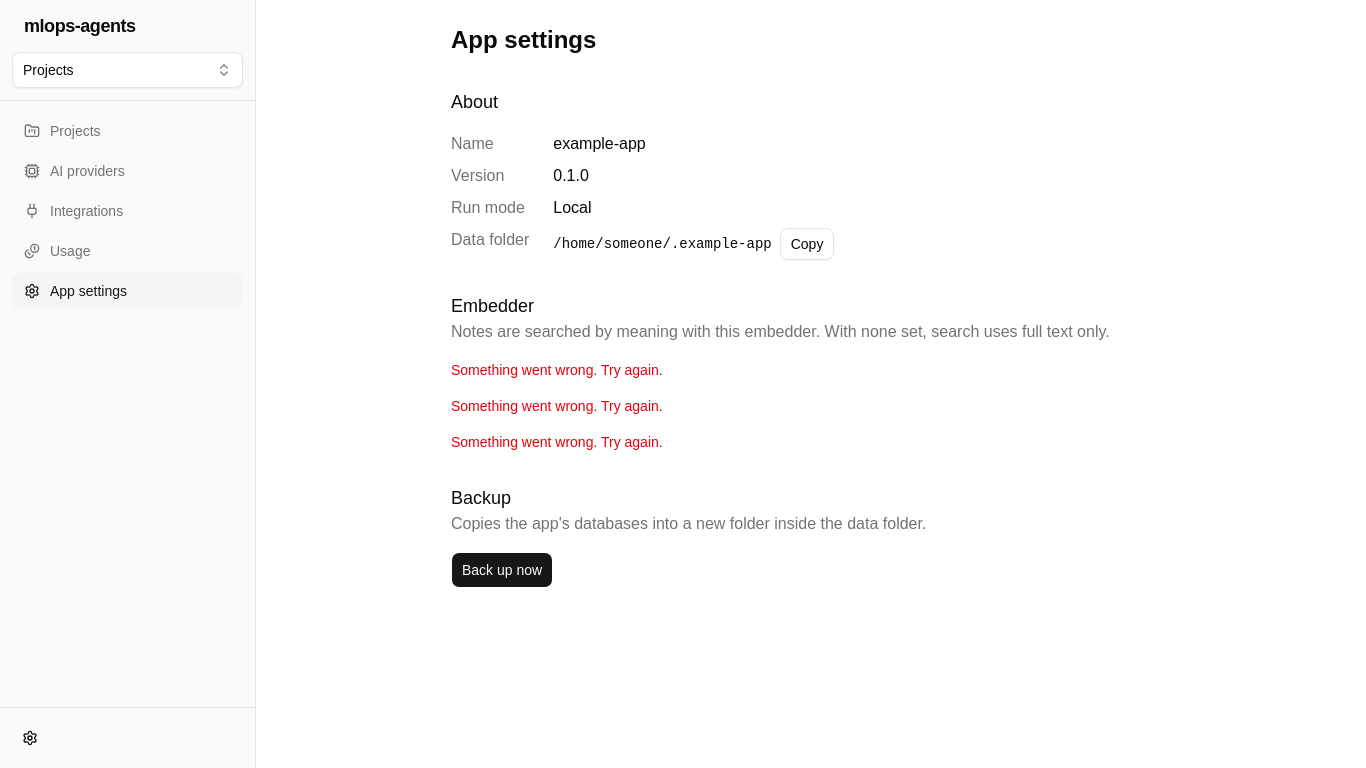
Test: App settings page › shows the server's message when the backup fails
This screenshot has width=1366, height=768.
Click the button "Back up now" at (502, 570), box [451,552,553,588]
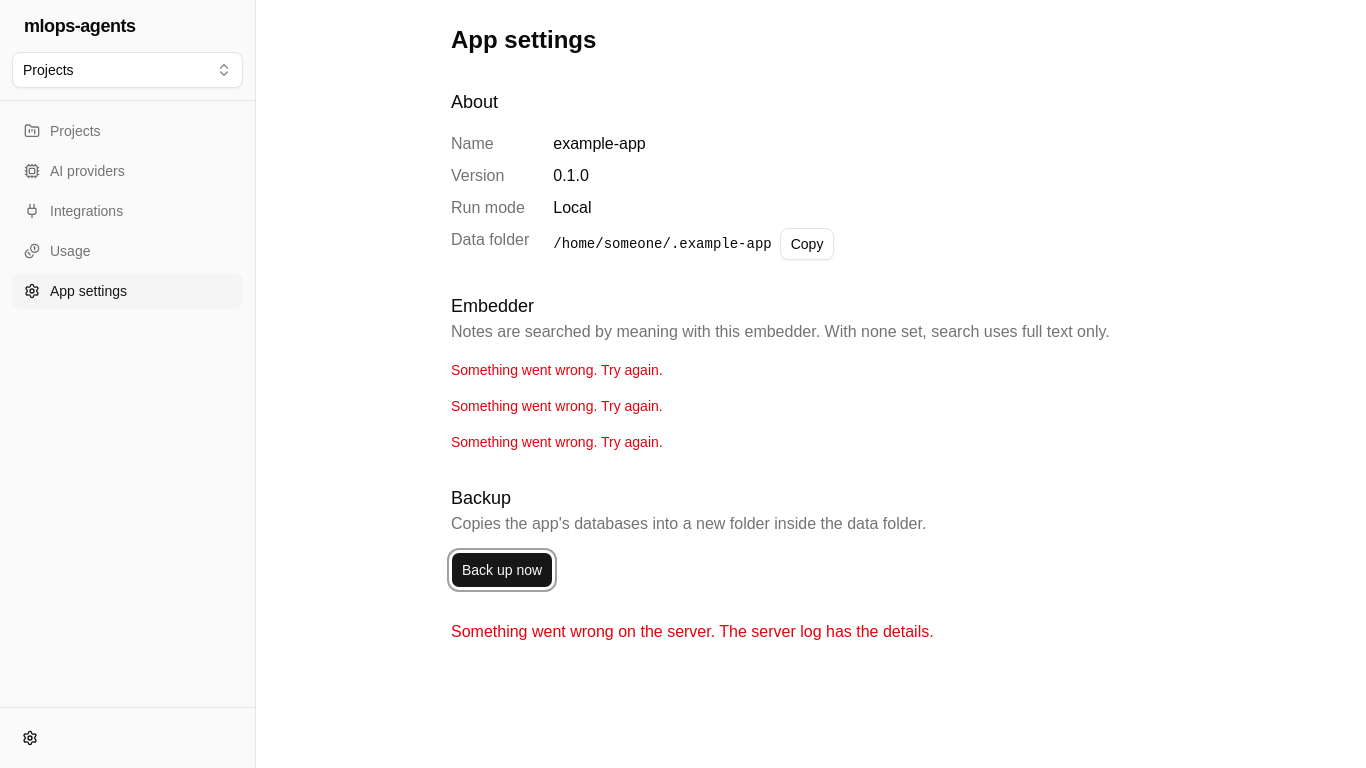
Expected: the text "Something went wrong on the server. The server log has the details." is shown, [451,623,934,640]
